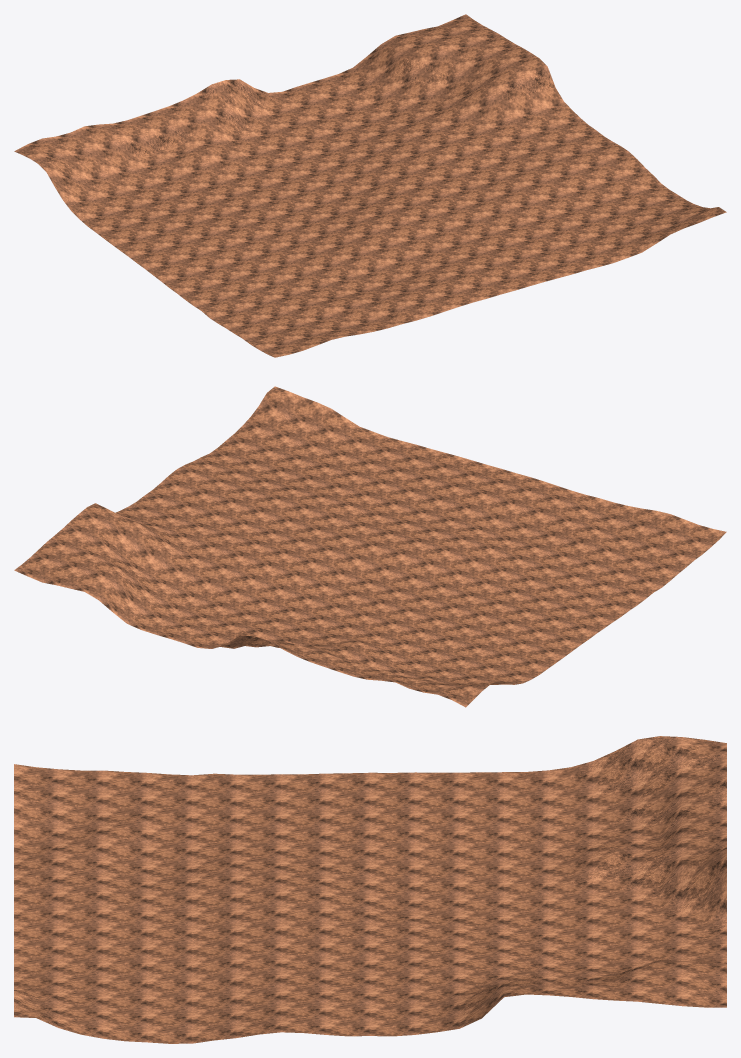
File: terrain_04_19.dae
3 renders of one model, top to bottom at view 1: azimuth 30°, elevation 25°; view 2: azimuth 150°, elevation 25°; view 3: azimuth 270°, elevation 25°, orthographic. The views are drawn at different scales.
Visible parts, largest first — view 1: terrain_04_19-node; view 2: terrain_04_19-node; view 3: terrain_04_19-node.
Part boxes in pixels (box(x1,y1,x2,y2)): terrain_04_19-node: box(14, 14, 726, 357); terrain_04_19-node: box(14, 386, 726, 707); terrain_04_19-node: box(14, 736, 726, 1043).
Bounding box in the file's own units: 128 × 128 × 16.26.
Materials: 1 (1 with a texture image).
